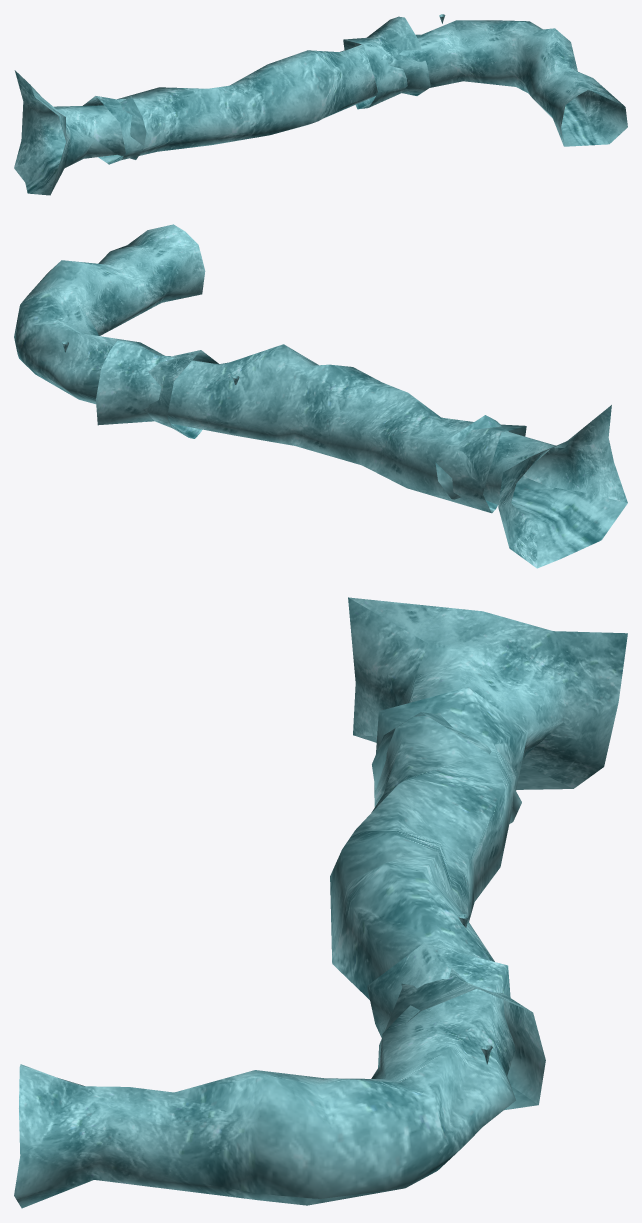
3 views of the same model, one above another, from view 1: azimuth 30°, elevation 25°; view 2: azimuth 150°, elevation 25°; view 3: azimuth 270°, elevation 25° (orthographic). The views are drawn at different scales.
Visible parts, largest first — view 1: MEP_C_Pipe_01, MEP_C_Pipe_02, MEP_C_Entrance_01; view 2: MEP_C_Pipe_01, MEP_C_Pipe_02, MEP_C_Entrance_01; view 3: MEP_C_Pipe_02, MEP_C_Pipe_01, MEP_C_Entrance_01.
Part boxes in pixels (x1,y1,x2,y2): MEP_C_Pipe_01: (83,16,430,164); MEP_C_Pipe_02: (343,20,627,146); MEP_C_Entrance_01: (14,70,146,195); MEP_C_Pipe_01: (96,340,526,513); MEP_C_Pipe_02: (14,224,218,438); MEP_C_Entrance_01: (435,405,627,568); MEP_C_Pipe_02: (14,943,515,1208); MEP_C_Pipe_01: (330,687,545,1110); MEP_C_Entrance_01: (348,597,627,823).
Size of the model in its own units: 12898 by 2347 by 6802.
1 material, 1 textured.
